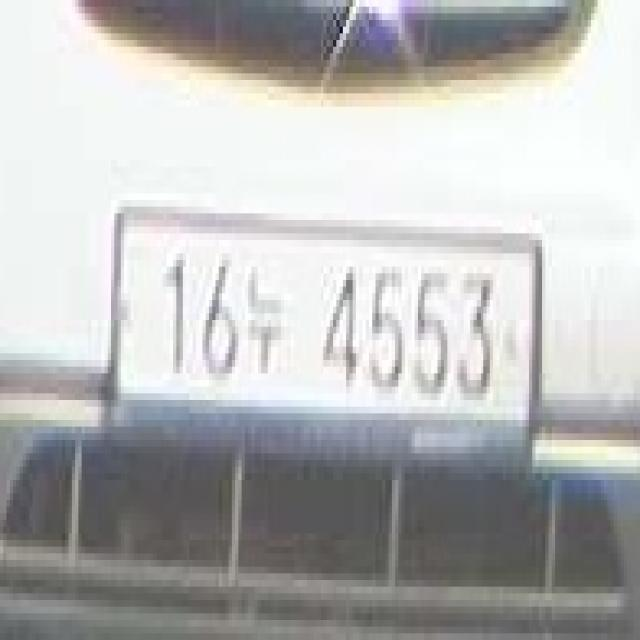1: (163, 240, 193, 387)
3: (454, 253, 499, 420)
4: (317, 260, 362, 400)
5: (411, 260, 454, 420), (366, 260, 411, 407)
6: (196, 240, 242, 393)
license_plate: (102, 193, 546, 480)
nu: (245, 254, 284, 394)
